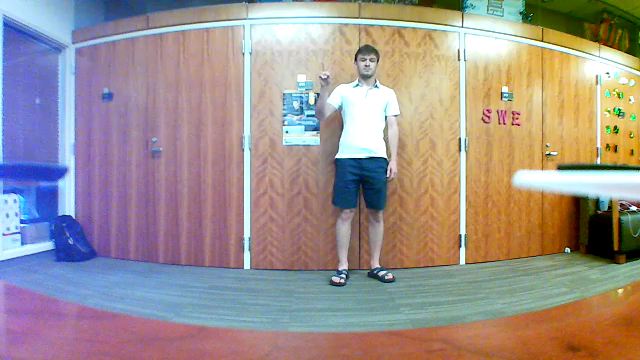peace: (312, 58, 337, 86)
